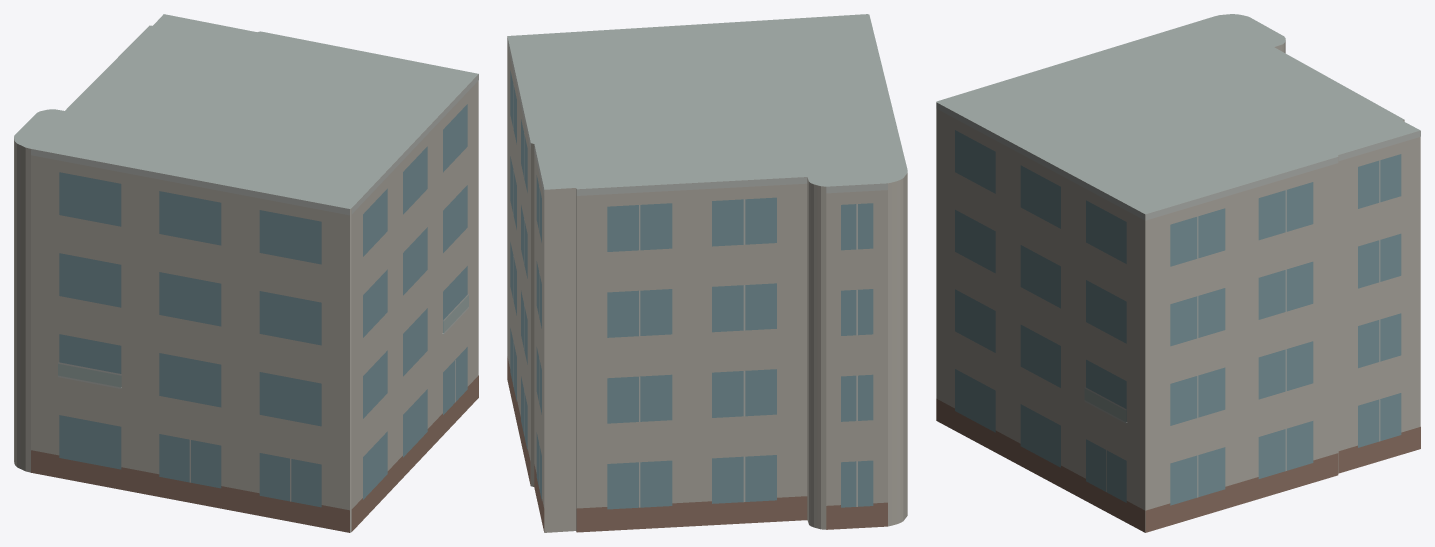
File: survey-upis-32905215.glb
The picture shows the model from 3 angles, left to right: view 1: azimuth 30°, elevation 25°; view 2: azimuth 150°, elevation 25°; view 3: azimuth 270°, elevation 25°; orthographic projection. The views are drawn at different scales.
Visible parts, largest first — view 1: survey-upis-32905215.tmp; view 2: survey-upis-32905215.tmp; view 3: survey-upis-32905215.tmp.
Part boxes in pixels (box(x1,y1,x2,y2)): survey-upis-32905215.tmp: box(14, 14, 478, 532); survey-upis-32905215.tmp: box(507, 14, 907, 532); survey-upis-32905215.tmp: box(936, 14, 1420, 532).
Size of the model in its own units: 16.74 by 12.4 by 17.11.
